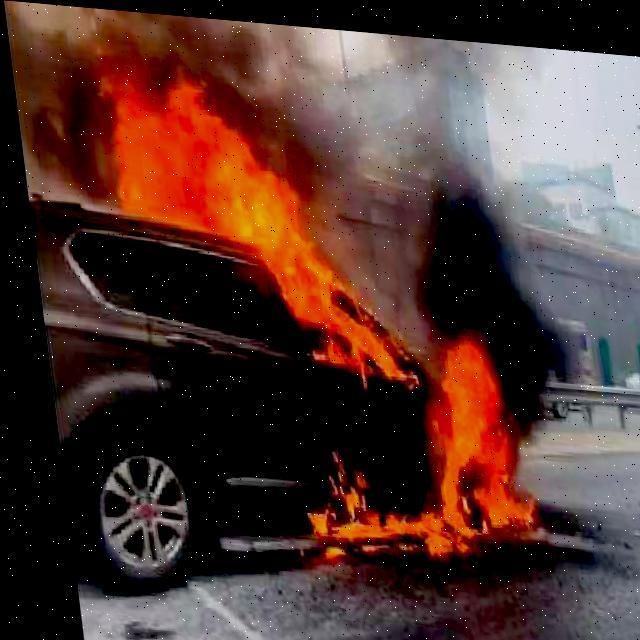Fire: (107, 66, 540, 569)
